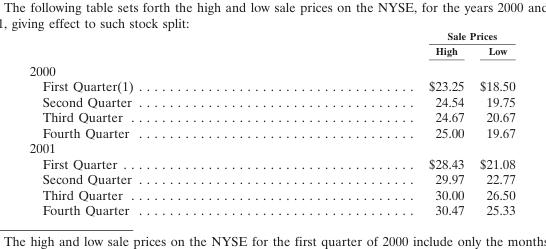table: (28, 28, 514, 217)
table column: (28, 28, 280, 217), (280, 28, 471, 217), (471, 28, 514, 217)
table column header: (28, 28, 514, 59)
table projected row header: (28, 59, 514, 77), (28, 139, 514, 155)
table row: (28, 59, 514, 77), (28, 42, 514, 59), (28, 77, 514, 93), (28, 108, 514, 124), (28, 139, 514, 155), (28, 170, 514, 186), (28, 201, 514, 217), (28, 93, 514, 108), (28, 124, 514, 139), (28, 155, 514, 170), (28, 186, 514, 201), (28, 28, 514, 42)
table spanning cell: (280, 28, 514, 42)
